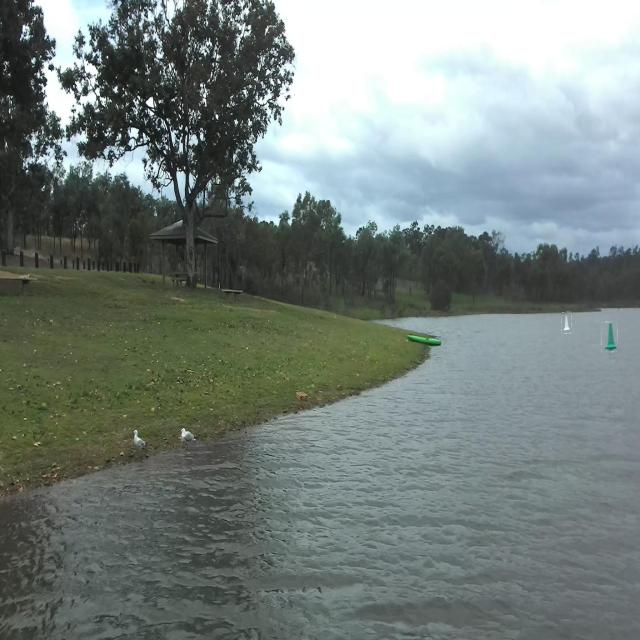Green_Buoy: (603, 317, 624, 359)
White_Buoy: (562, 307, 584, 341)
